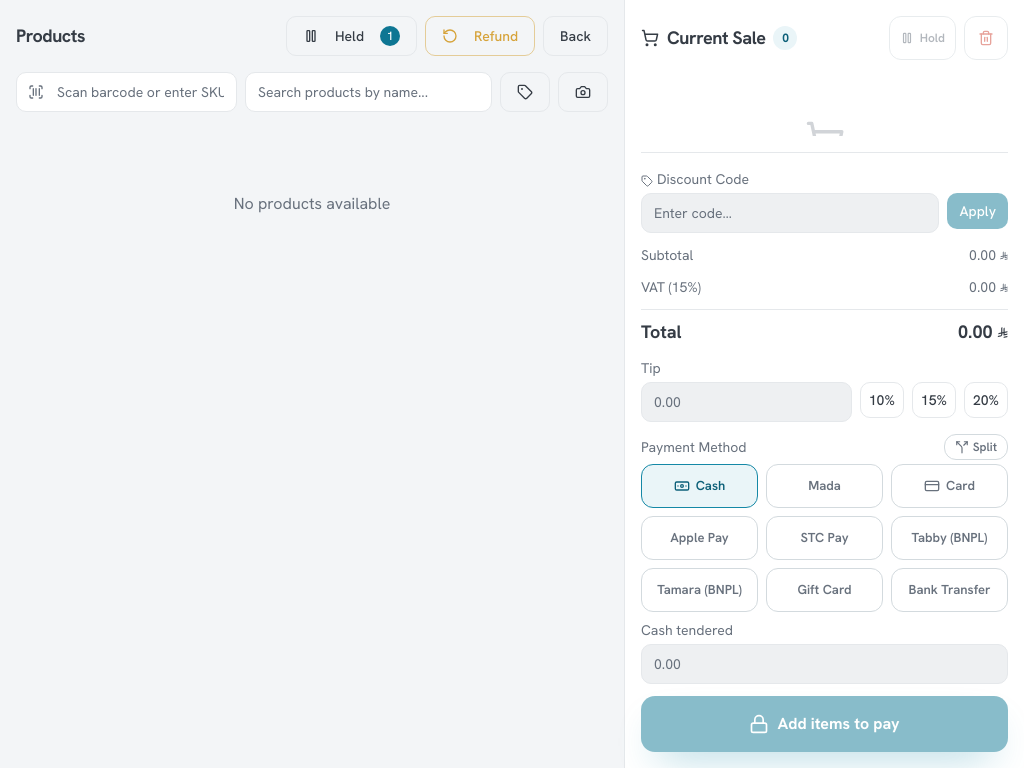
POSTerminal held-tickets modal is an accessible Dialog (ISSUE-226) › closes on Escape (keyboard dismissal)
The width and height of the screenshot is (1024, 768).
Step 1. Click the button "Held 1" → (352, 36), box x1=286 y1=16 x2=417 y2=56
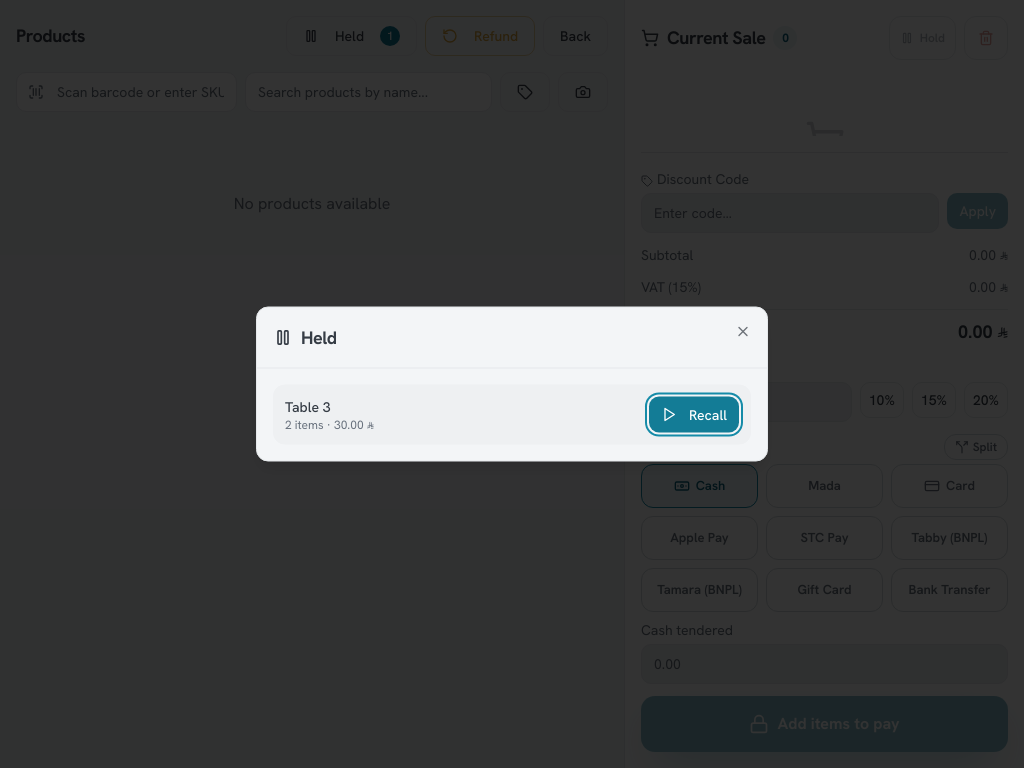
Check: the dialog is shown, box x1=256 y1=306 x2=768 y2=462
Step 2. Press Escape
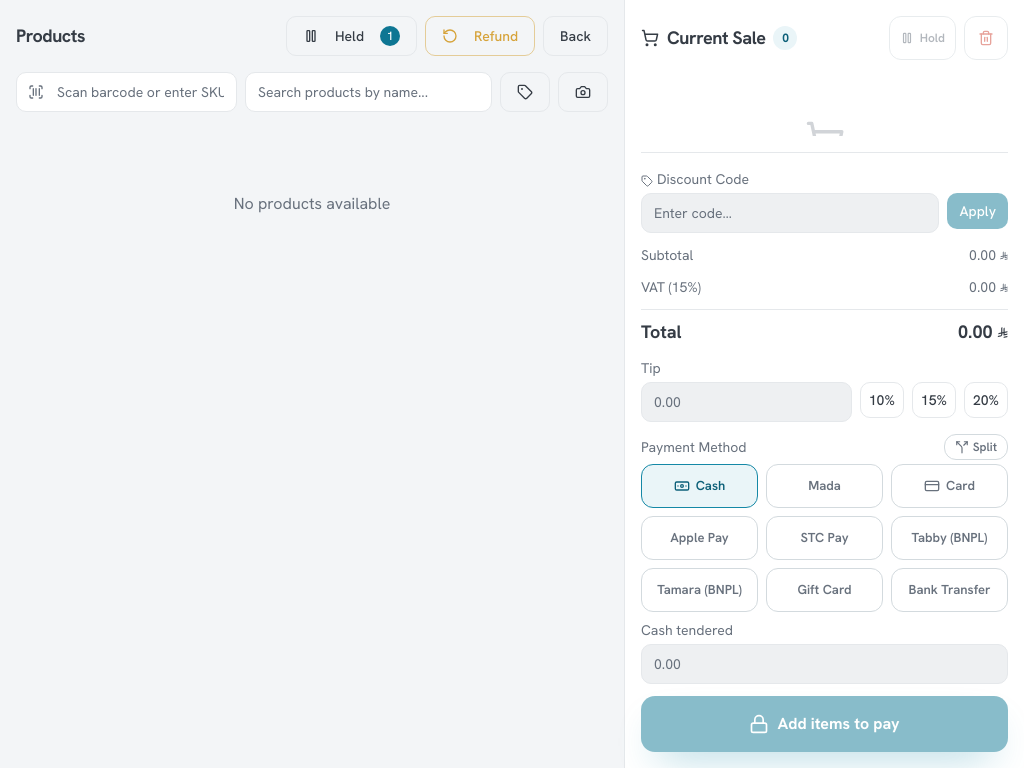
Check: the dialog is gone
